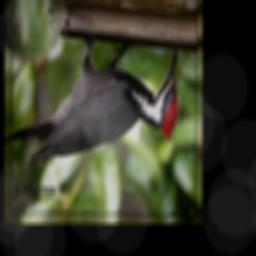Woodpecker: (6, 35, 179, 170)
